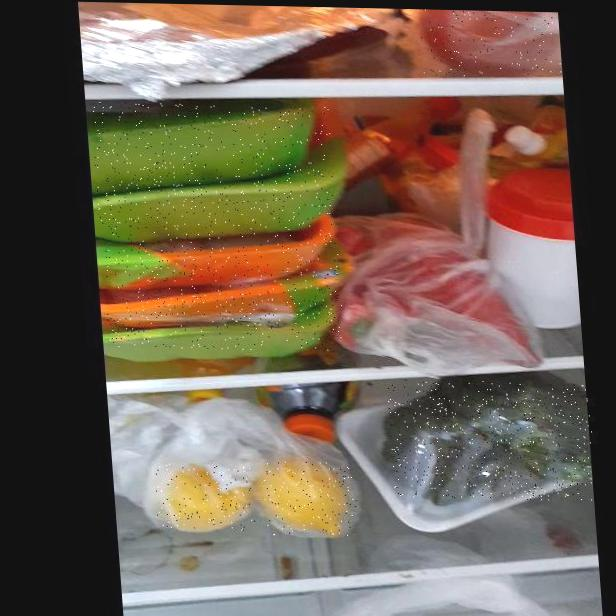broccoli: (387, 379, 597, 502)
chicken: (91, 102, 346, 352)
lemon: (261, 460, 360, 537), (153, 464, 256, 531)
tomato: (419, 9, 565, 78)
